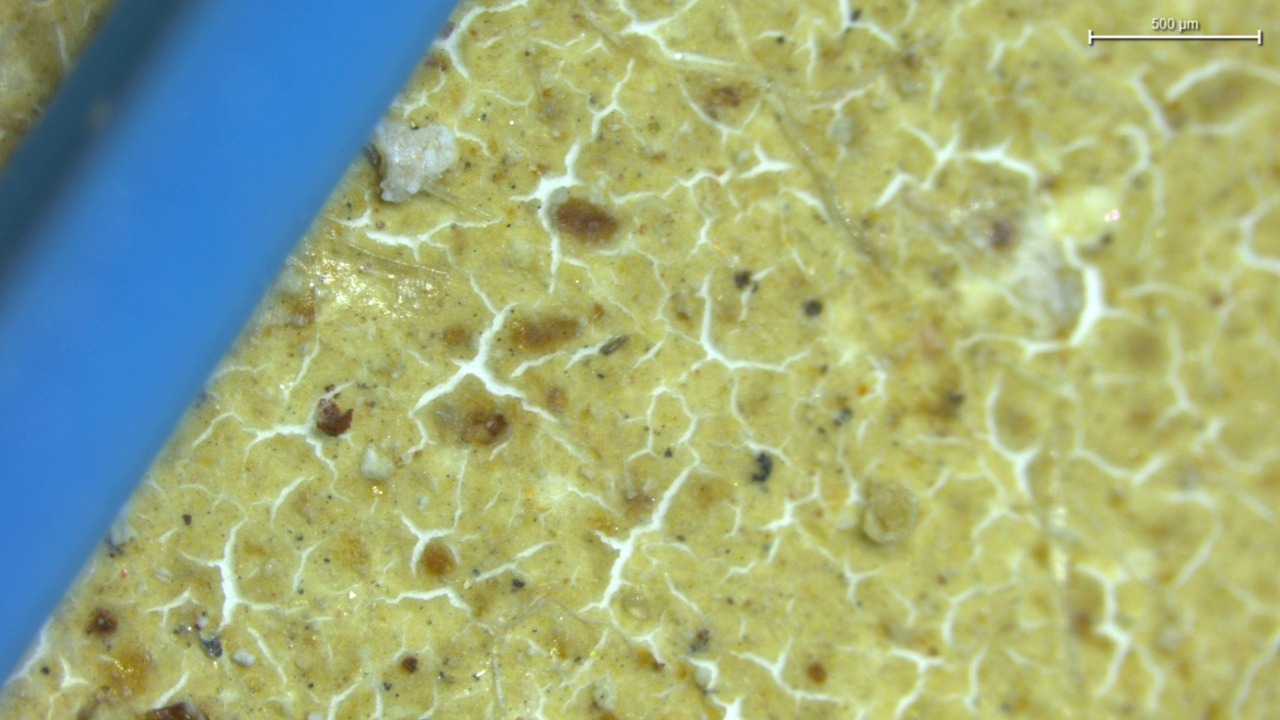microplastic_fragment: (372, 119, 458, 202), (862, 482, 919, 544), (359, 444, 394, 480)
